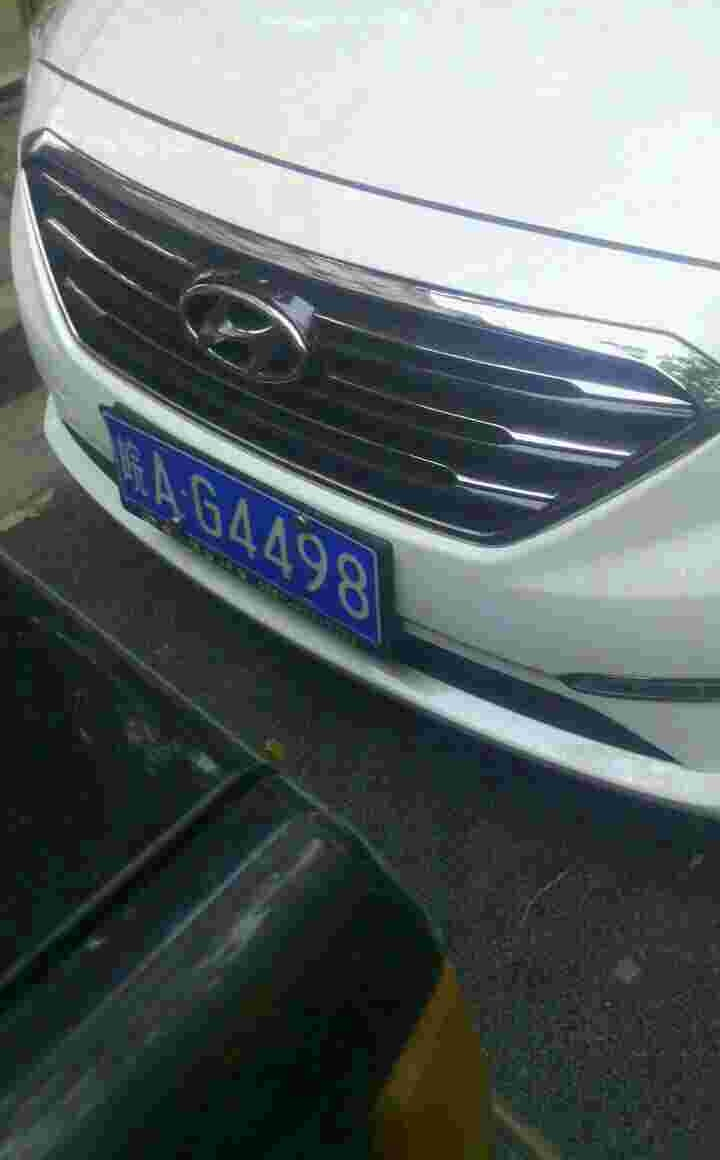license_plate: (118, 409, 373, 654)
